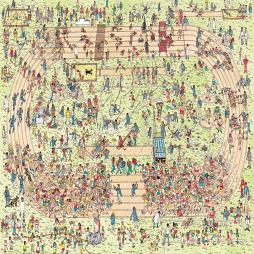odlaw: (100, 159, 103, 174)
wally: (179, 80, 186, 94)
wenda: (189, 180, 191, 189)
wizard_whitebeard: (97, 214, 100, 232)
